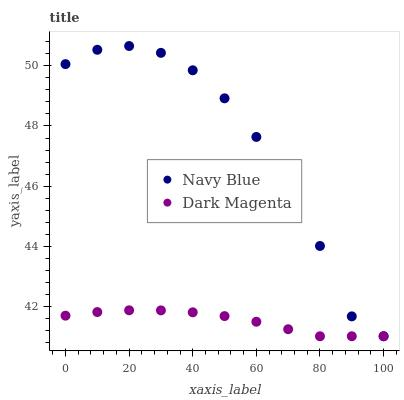axis: (56, 345, 402, 359), (44, 34, 53, 349)
legend: (148, 160, 302, 223)
point: (218, 307, 231, 324), (62, 306, 74, 322), (92, 307, 107, 319), (60, 57, 73, 70), (376, 330, 388, 343), (154, 306, 170, 315), (126, 41, 137, 53), (282, 322, 293, 334), (316, 238, 324, 254), (254, 133, 263, 144), (188, 66, 197, 76), (348, 311, 357, 321)
